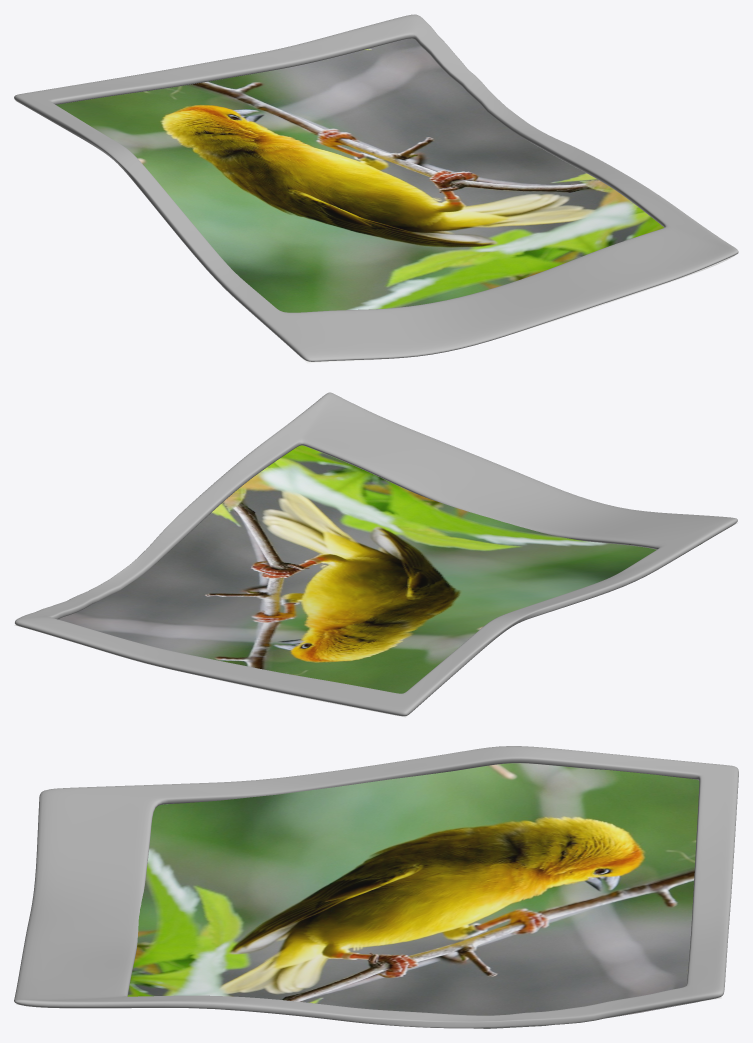
Rendered from scenearmenia.glb.
The picture shows the model from 3 angles, top to bottom: view 1: azimuth 30°, elevation 25°; view 2: azimuth 150°, elevation 25°; view 3: azimuth 270°, elevation 25°; orthographic projection. The views are drawn at different scales.
Size of the model in its own units: 33.26 by 5.42 by 44.48.
Materials: 2 (1 with a texture image).
